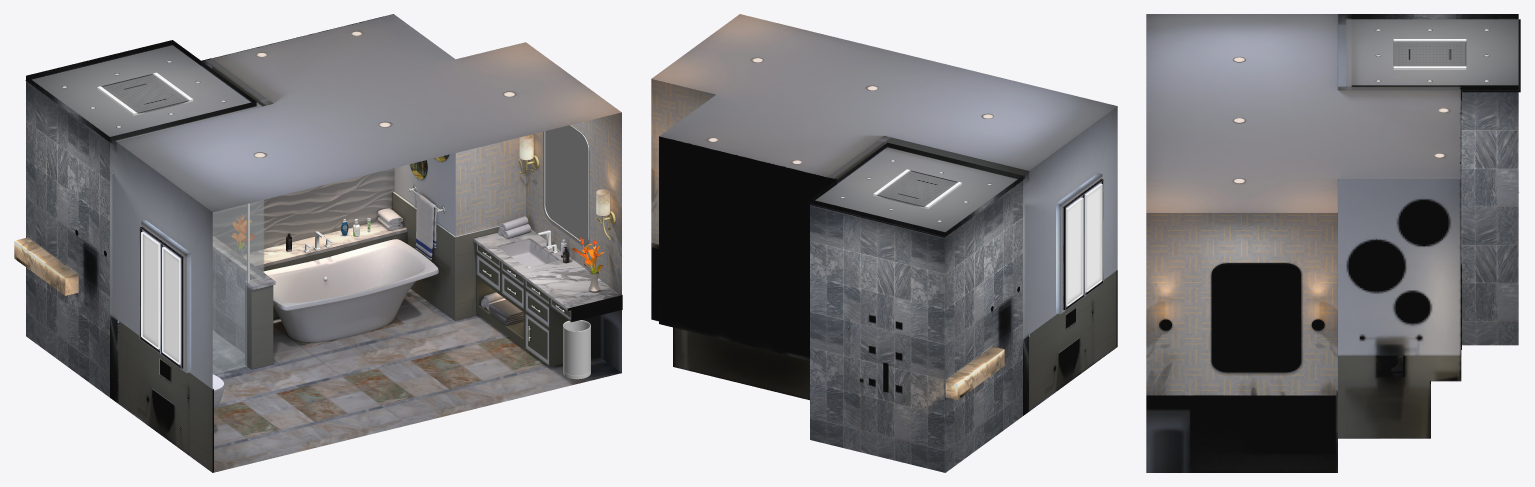
File: bathroom_interior.glb
The picture shows the model from 3 angles, left to right: view 1: azimuth 30°, elevation 25°; view 2: azimuth 150°, elevation 25°; view 3: azimuth 270°, elevation 25°; orthographic projection. The views are drawn at different scales.
Visible parts, largest first — view 1: ceiling_passage_1, sidewall_31, floor_27, bathroom_wall_5, vanityside_wall_29, ceramic_objects_0, vanitycounter_30, ceiling_bathroom_4, artistictile_wall_28, enclosure_glass_18, window_15, mirror_glass_17 (+7 smaller); view 2: sidewall_31, bathroom_wall_5, ceiling_passage_1, ceiling_bathroom_4, window_15, vanityside_wall_29, showerpanel_7; view 3: vanityside_wall_29, ceiling_passage_1, sidewall_31, bathroom_wall_5, ceiling_bathroom_4, showerpanel_7.
Part boxes in pixels (left/top/right/bottom): ceiling_passage_1: left=117, top=14, right=621, bottom=212; sidewall_31: left=110, top=58, right=455, bottom=472; floor_27: left=117, top=289, right=621, bottom=472; bathroom_wall_5: left=14, top=40, right=252, bottom=397; vanityside_wall_29: left=455, top=112, right=621, bottom=372; ceramic_objects_0: left=151, top=239, right=558, bottom=430; vanitycounter_30: left=473, top=229, right=622, bottom=366; ceiling_bathroom_4: left=25, top=45, right=261, bottom=141; artistictile_wall_28: left=205, top=17, right=394, bottom=252; enclosure_glass_18: left=212, top=200, right=263, bottom=374; window_15: left=139, top=221, right=186, bottom=372; mirror_glass_17: left=545, top=125, right=586, bottom=242; sidewall_31: left=659, top=106, right=1117, bottom=415; bathroom_wall_5: left=810, top=176, right=1022, bottom=472; ceiling_passage_1: left=651, top=14, right=1117, bottom=179; ceiling_bathroom_4: left=806, top=147, right=1017, bottom=237; window_15: left=1060, top=174, right=1103, bottom=313; vanityside_wall_29: left=651, top=79, right=715, bottom=320; showerpanel_7: left=877, top=170, right=957, bottom=206; vanityside_wall_29: left=1146, top=213, right=1337, bottom=472; ceiling_passage_1: left=1146, top=14, right=1461, bottom=212; sidewall_31: left=1338, top=14, right=1461, bottom=437; bathroom_wall_5: left=1351, top=14, right=1518, bottom=345; ceiling_bathroom_4: left=1346, top=19, right=1520, bottom=92; showerpanel_7: left=1394, top=41, right=1465, bottom=66.
Size of the model in its own units: 5.02 by 2.97 by 3.86.
33 materials, 23 textured.
